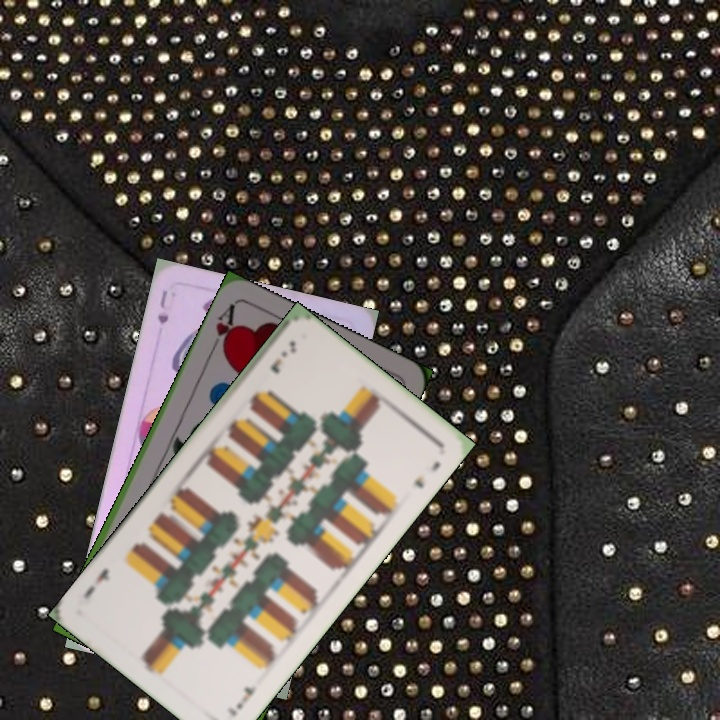E7: (223, 681, 259, 719), (266, 336, 299, 377)
HA: (205, 300, 239, 356)
SU: (153, 286, 171, 327)
